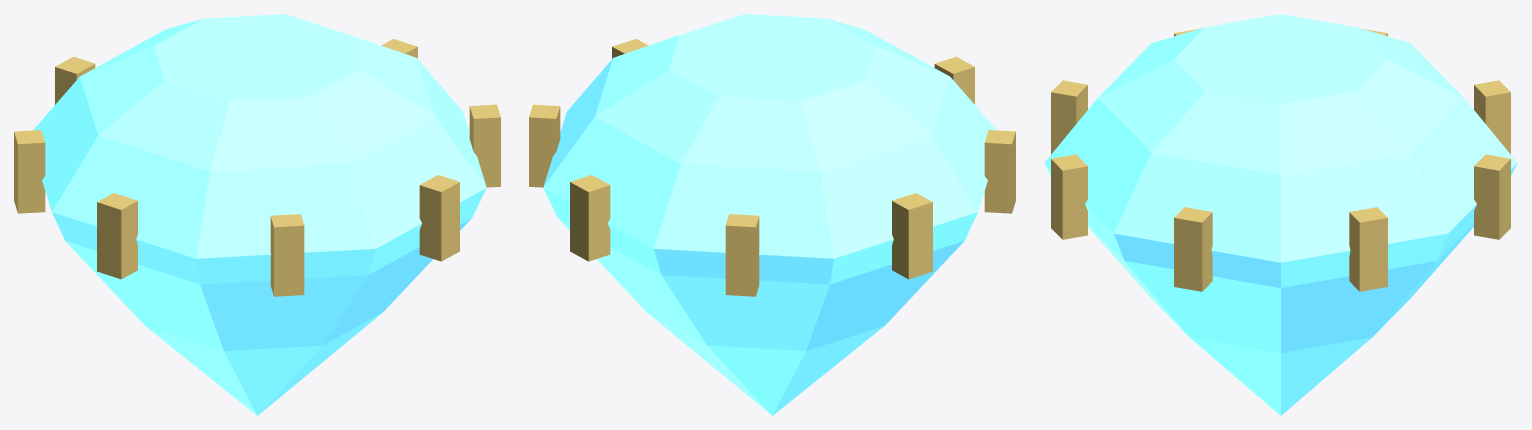
The model's file is gem.glb.
3 views of the same model, side by side, from view 1: azimuth 30°, elevation 25°; view 2: azimuth 150°, elevation 25°; view 3: azimuth 270°, elevation 25° (orthographic).
Visible parts, largest first — view 1: 004-gem-spinning/body/gem, 004-gem-spinning/body/gold; view 2: 004-gem-spinning/body/gem, 004-gem-spinning/body/gold; view 3: 004-gem-spinning/body/gem, 004-gem-spinning/body/gold.
Boxes of the visible parts, box(x1,y1,x2,y2) form: 004-gem-spinning/body/gem: box(33, 14, 486, 415); 004-gem-spinning/body/gold: box(14, 39, 500, 296); 004-gem-spinning/body/gem: box(543, 14, 996, 415); 004-gem-spinning/body/gold: box(529, 39, 1015, 296); 004-gem-spinning/body/gem: box(1044, 14, 1517, 415); 004-gem-spinning/body/gold: box(1051, 28, 1510, 291).
Bounding box in the file's own units: 0.31 × 0.258 × 0.31.
